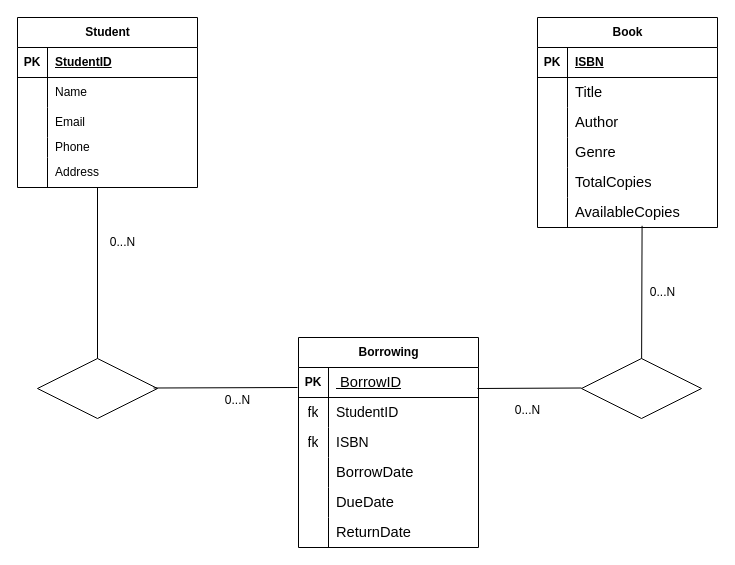
Image size: 735x565. Some labels were removed from this diagram. Here are the shapes that lost their labels. From the top down, the centre of each, then its label:
point 97,388: take
point 641,388: Generate
